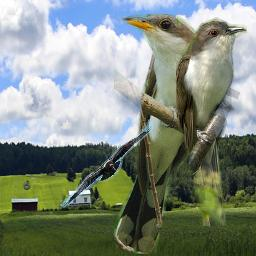Crow: (59, 119, 155, 208)
Cuckoo: (114, 14, 219, 254), (176, 14, 247, 226)
